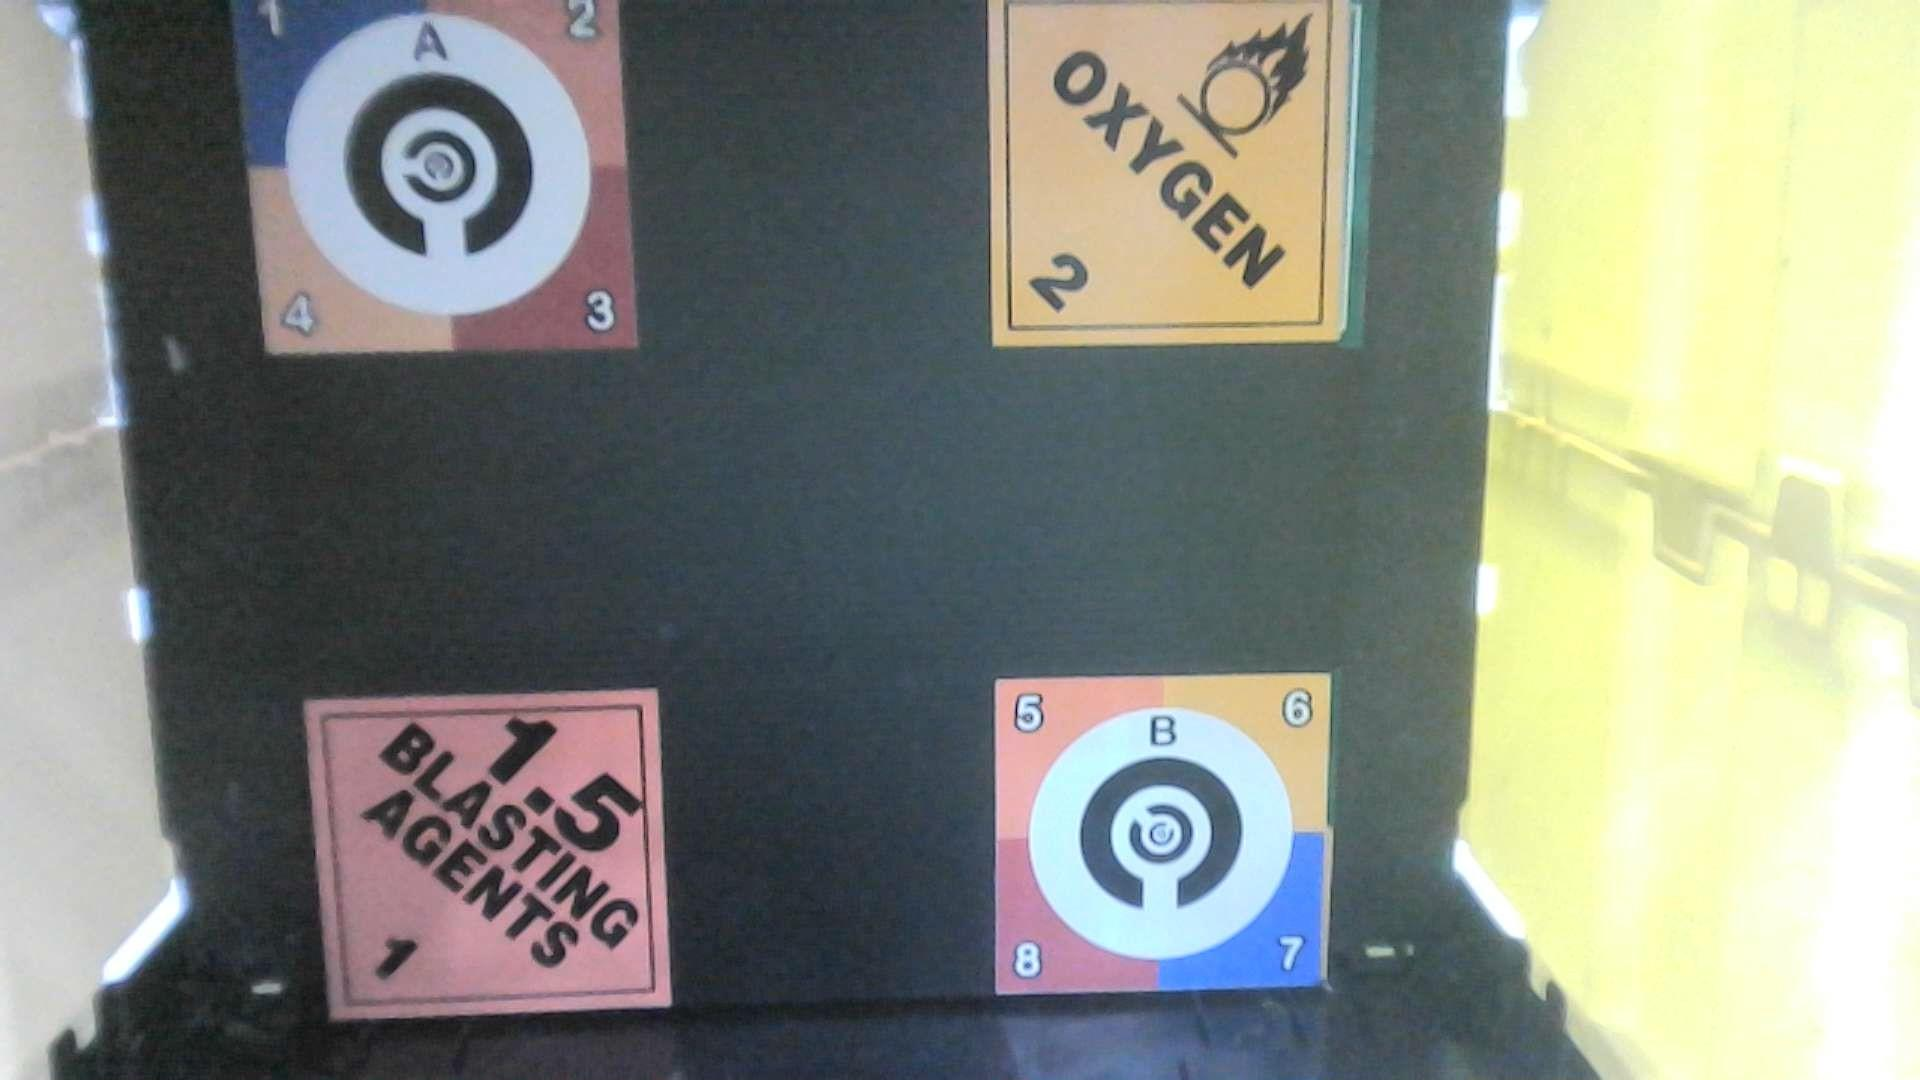explosive: (305, 702, 686, 1021)
oxidizer: (992, 7, 1352, 339)
